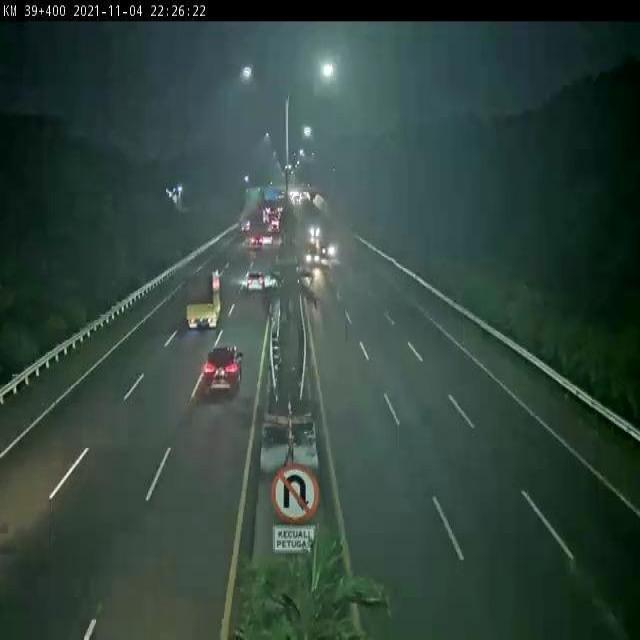car: (205, 347, 241, 391), (246, 271, 265, 291), (319, 240, 337, 260), (304, 248, 320, 267), (251, 232, 264, 249), (308, 223, 320, 236), (263, 232, 273, 244)
truck: (181, 271, 222, 332)
